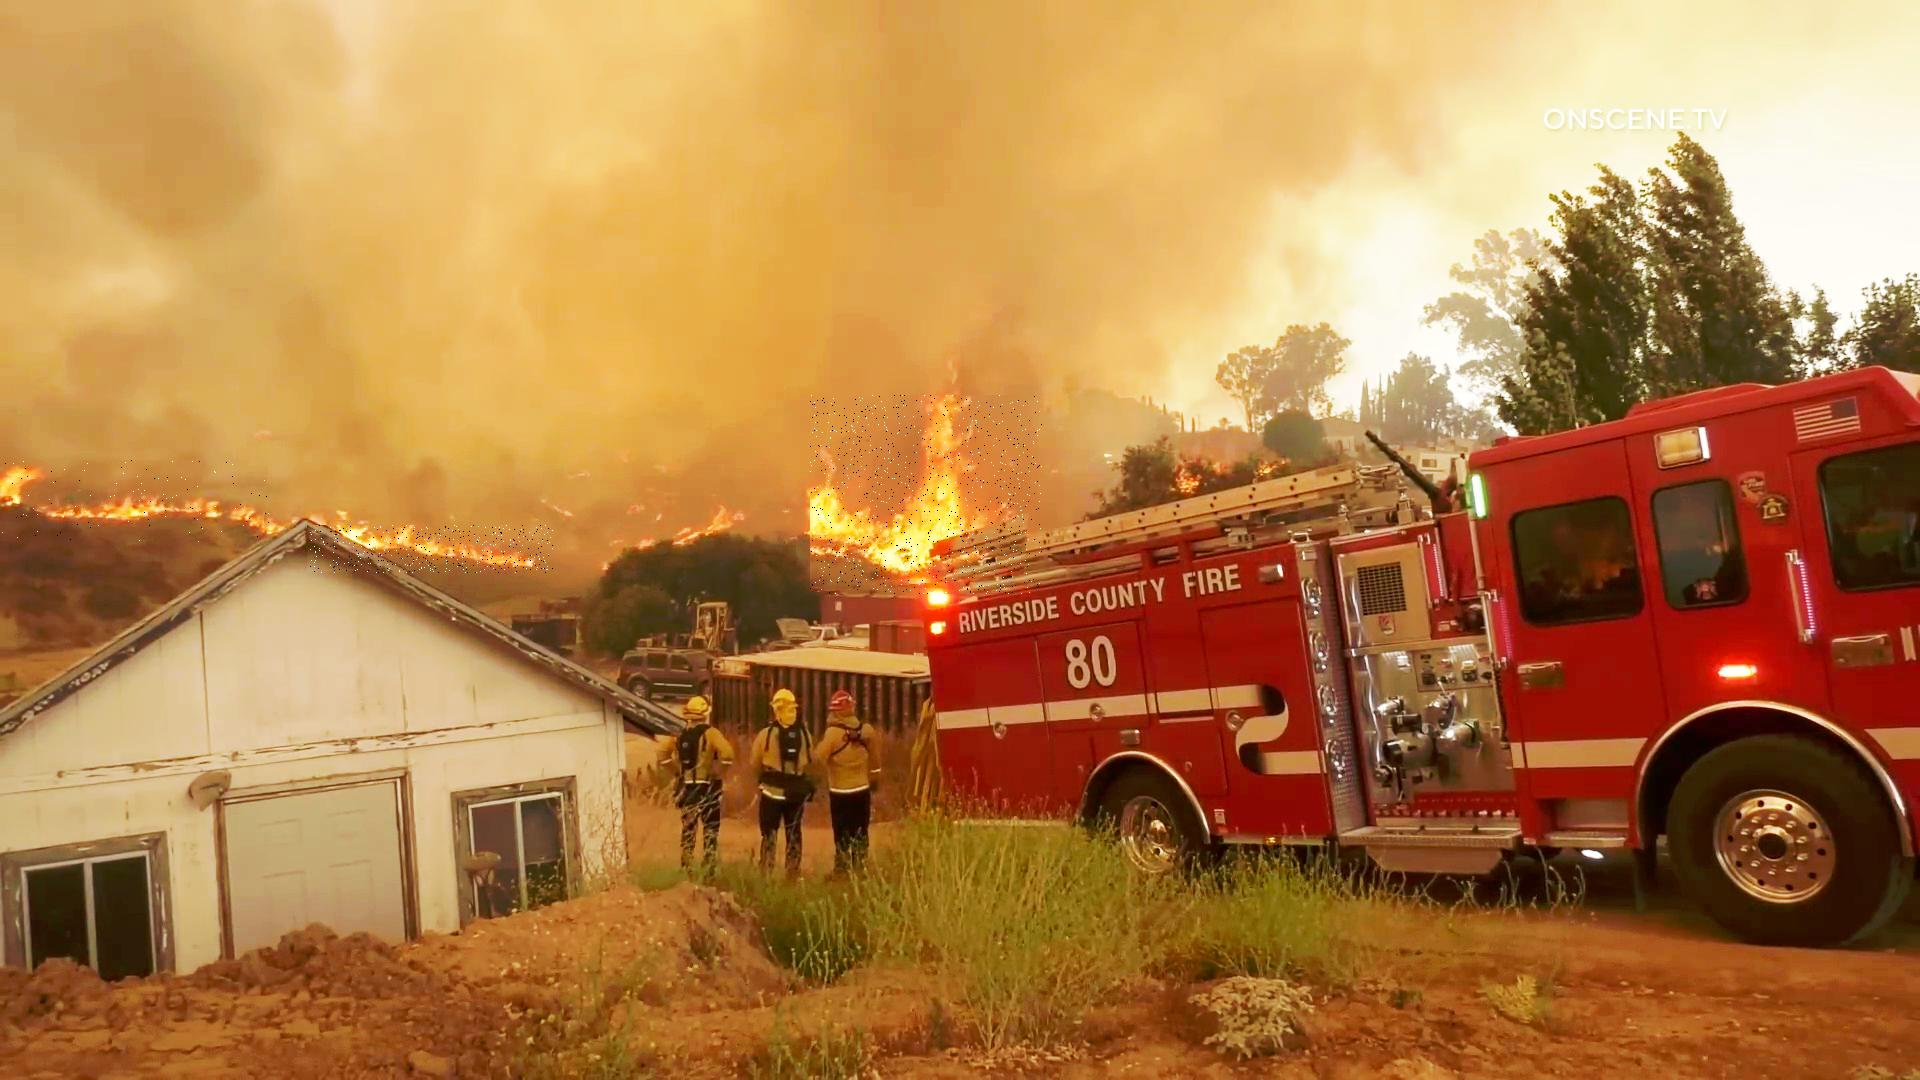fire: (811, 396, 1043, 595), (0, 460, 269, 542), (307, 526, 553, 574)
